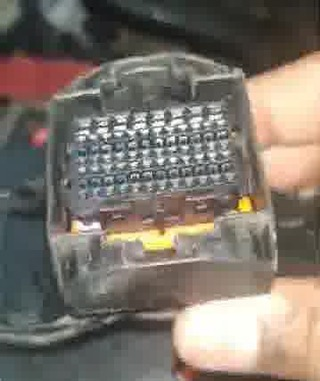connector: (46, 51, 276, 316)
